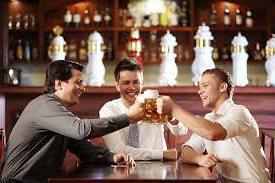Drunk: (116, 69, 143, 102), (65, 68, 88, 106), (196, 76, 218, 111)
